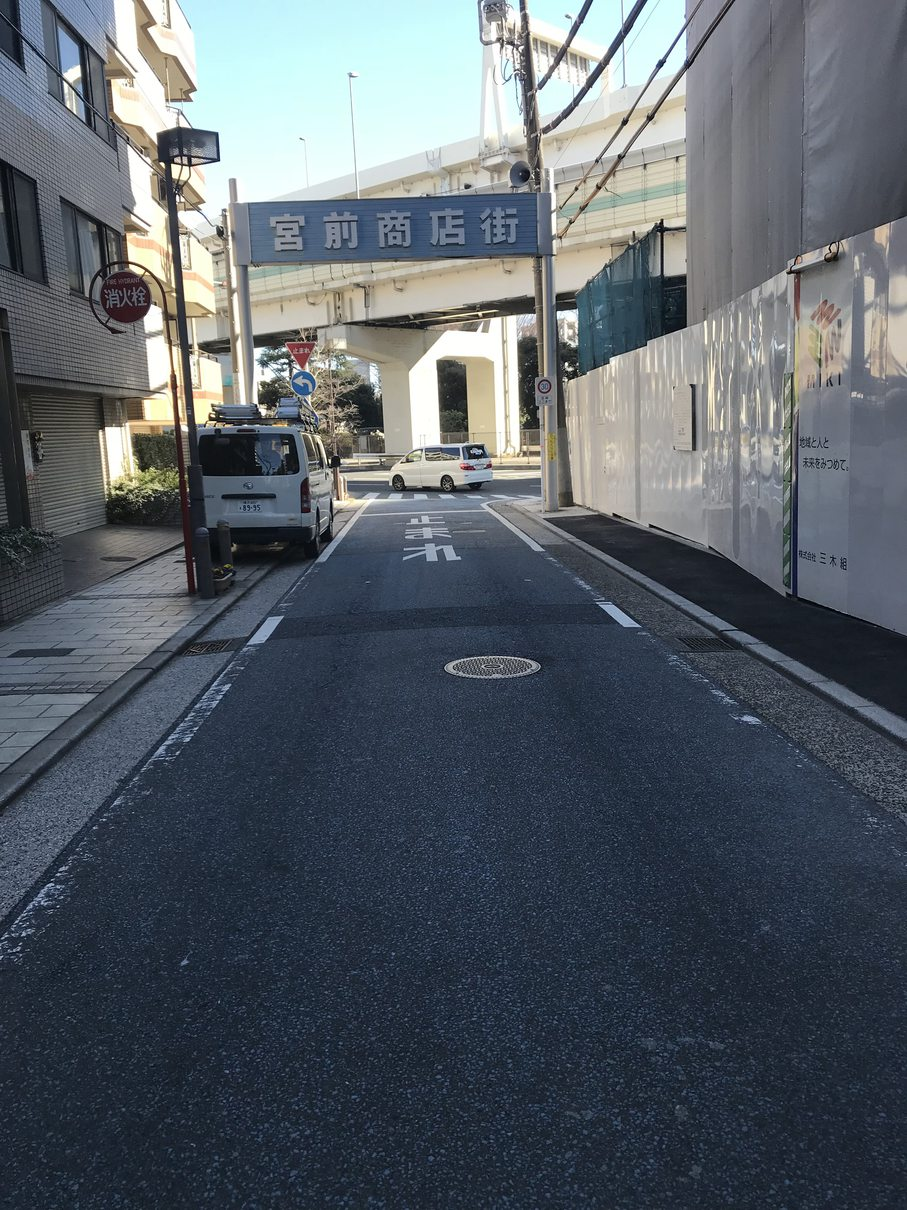stop_sign: (284, 340, 316, 370)
